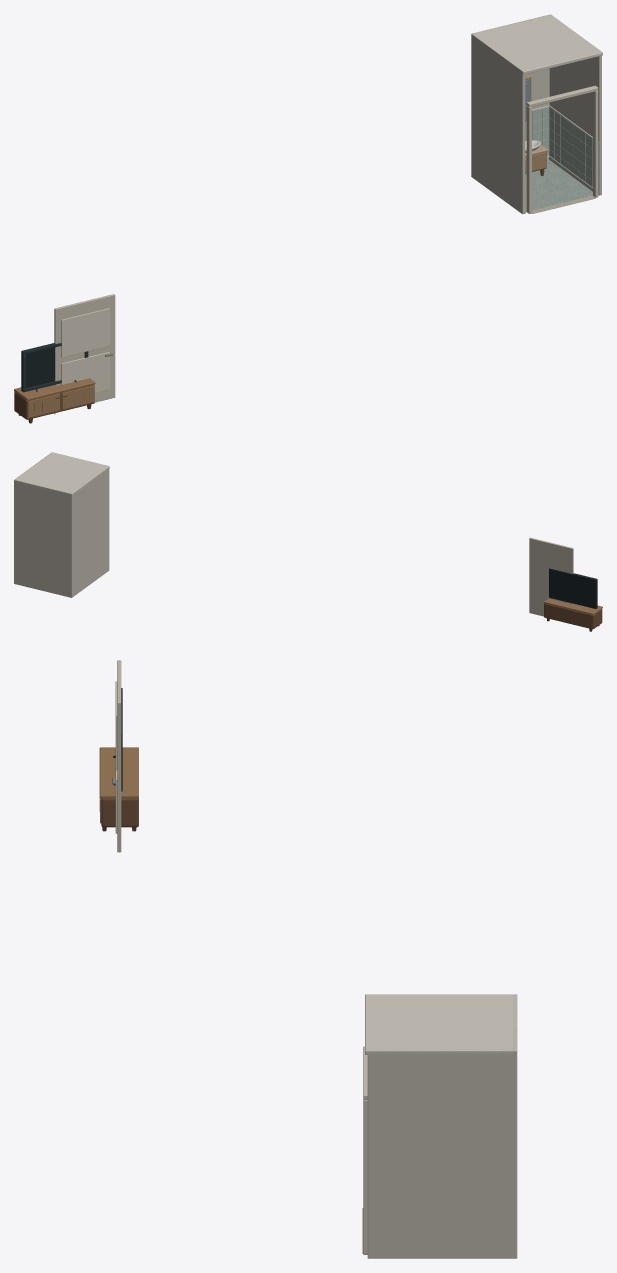
File: home-routine.glb
The picture shows the model from 3 angles, top to bottom: view 1: azimuth 30°, elevation 25°; view 2: azimuth 150°, elevation 25°; view 3: azimuth 270°, elevation 25°; orthographic projection. The views are drawn at different scales.
Parts seen in each view (by area): view 1: home-routine-room, home-routine-door, home-tv; view 2: home-routine-room, home-tv, home-routine-door; view 3: home-routine-room, home-tv, home-routine-door.
Part boxes in pixels (x1,y1,x2,y2): home-routine-room: [471, 14, 602, 214]; home-routine-door: [54, 294, 115, 402]; home-tv: [14, 343, 95, 423]; home-routine-room: [14, 452, 109, 597]; home-tv: [543, 568, 602, 631]; home-routine-door: [529, 537, 573, 616]; home-routine-room: [362, 994, 517, 1258]; home-tv: [99, 688, 138, 831]; home-routine-door: [112, 660, 121, 852].
Size of the model in its own units: 39.94 by 8.33 by 14.89.
